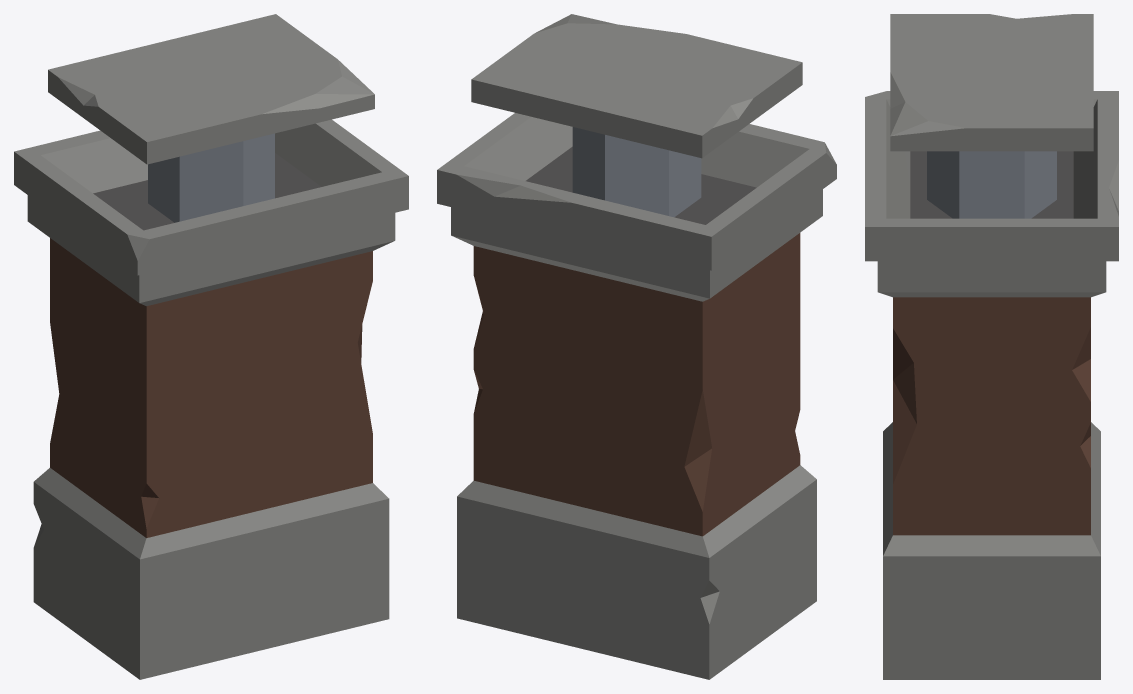
File: SM_Prop_Roof_Chimney.obj
The picture shows the model from 3 angles, left to right: view 1: azimuth 30°, elevation 25°; view 2: azimuth 150°, elevation 25°; view 3: azimuth 270°, elevation 25°; orthographic projection. The views are drawn at different scales.
Visible parts, largest first — view 1: SM_Prop_Roof_Chimney_0; view 2: SM_Prop_Roof_Chimney_0; view 3: SM_Prop_Roof_Chimney_0.
Boxes of the visible parts, x1,y1,x2,y2 form: SM_Prop_Roof_Chimney_0: [14, 14, 408, 679]; SM_Prop_Roof_Chimney_0: [437, 14, 836, 679]; SM_Prop_Roof_Chimney_0: [865, 14, 1118, 679].
Size of the model in its own units: 1.02 by 1.91 by 0.8046.
Materials: 1 (1 with a texture image).
